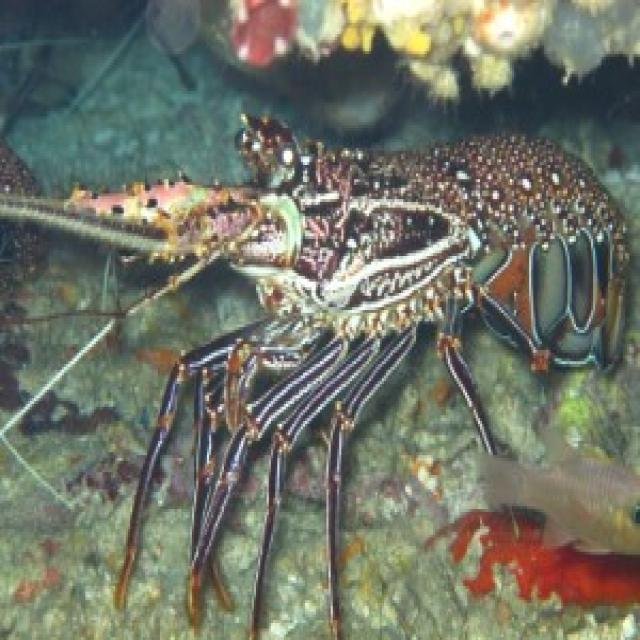lobsters: (16, 82, 640, 627)
